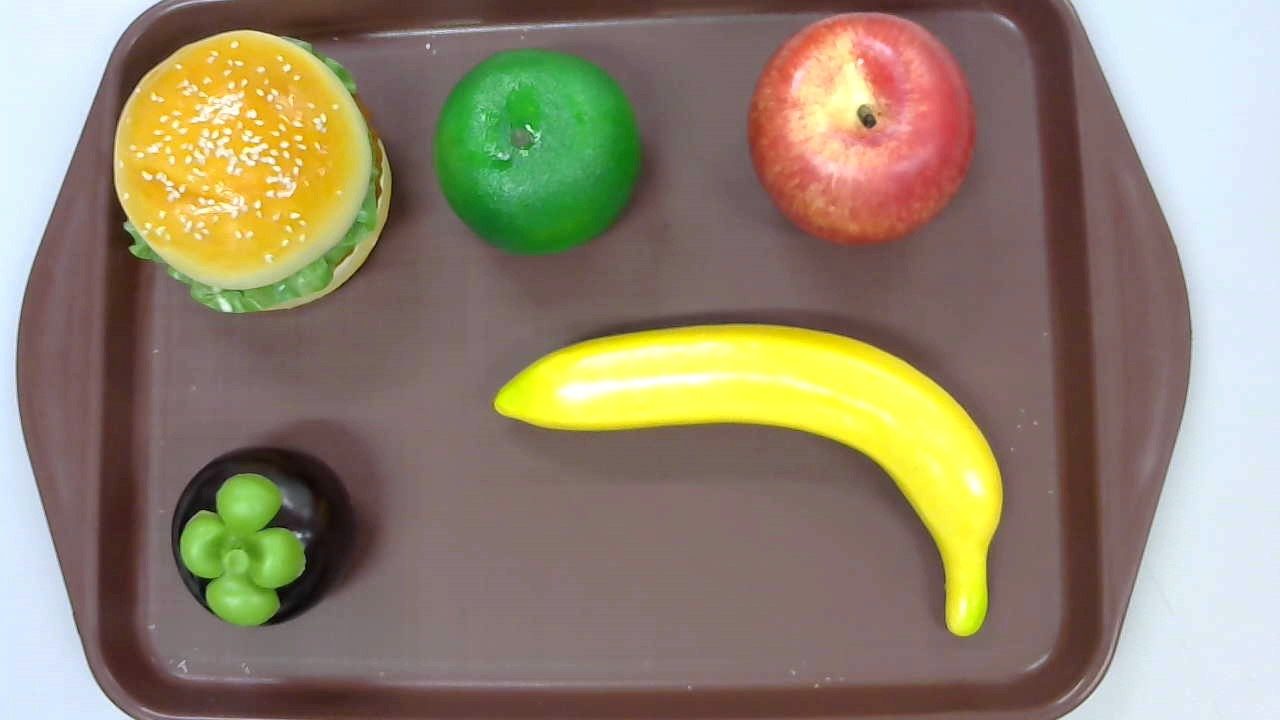banana: (492, 322, 1003, 637)
green orange: (433, 50, 641, 256)
hamburger: (111, 28, 391, 316)
mangosteen: (170, 448, 354, 629)
red apple: (746, 10, 977, 247)
